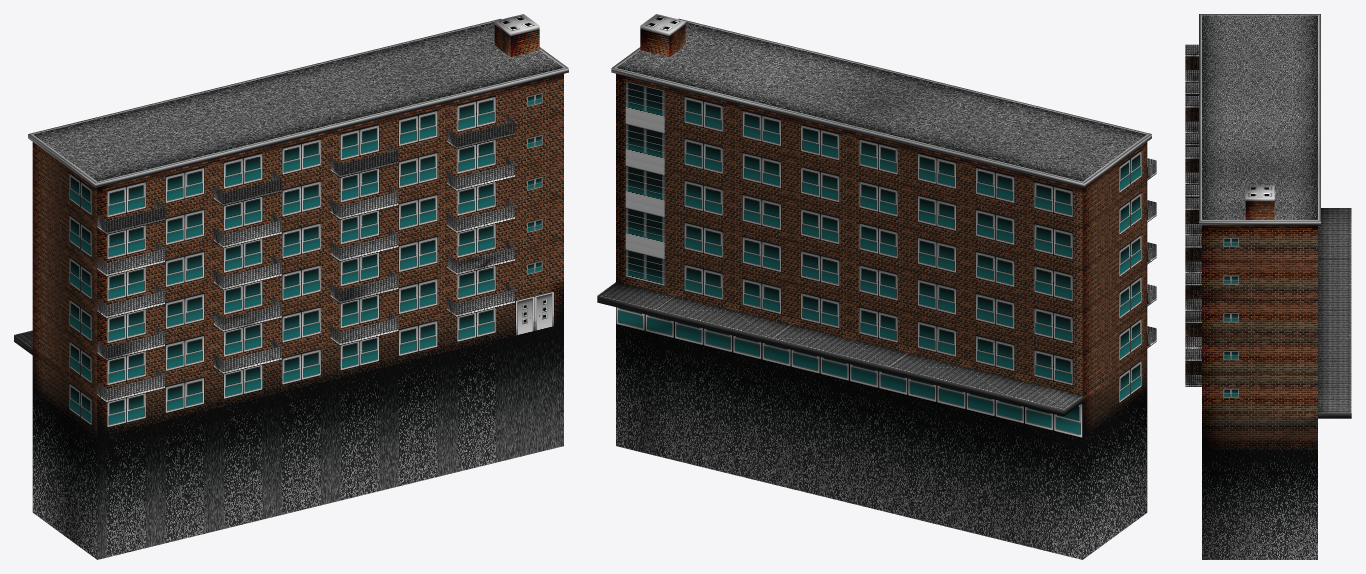
The model's file is flat_mod1_1a.fbx.
The picture shows the model from 3 angles, left to right: view 1: azimuth 30°, elevation 25°; view 2: azimuth 150°, elevation 25°; view 3: azimuth 270°, elevation 25°; orthographic projection. The views are drawn at different scales.
Parts seen in each view (by area): view 1: flat_mod1_1a; view 2: flat_mod1_1a; view 3: flat_mod1_1a.
Boxes of the visible parts, <box> form: flat_mod1_1a: <box>14,14,568,559</box>; flat_mod1_1a: <box>597,14,1156,559</box>; flat_mod1_1a: <box>1185,14,1351,559</box>.
Bounding box in the file's own units: 3650 × 2968 × 1238.
